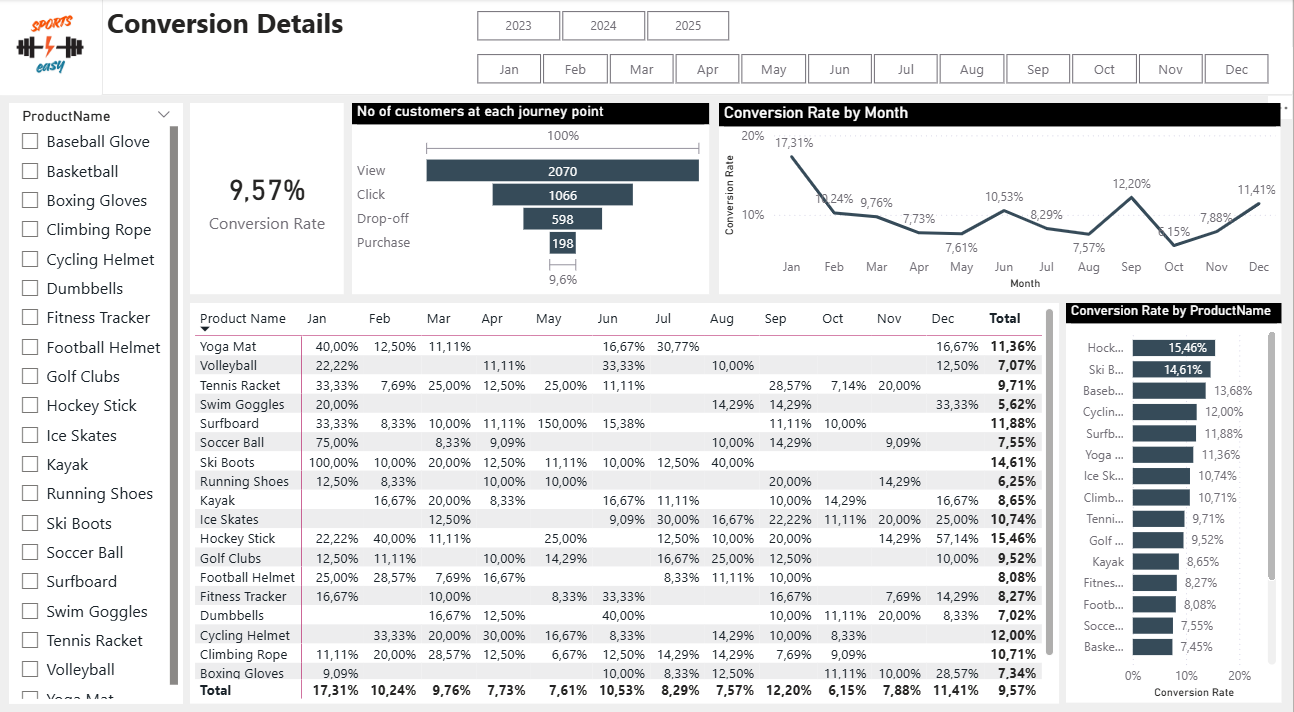

The page's visual inventory and layout, read from the dashboard file:
{"tool":"powerbi","page":{"name":"Conversion Details","canvas":[1280,720],"ordinal":1},"visuals":[{"type":"image","box":[0,0,102.8,94.9],"z":0},{"type":"textbox","box":[102.8,0,1177.2,94.9],"z":1000},{"type":"slicer","fields":{"Values":["Calendar.Year"]},"box":[447.8,4.9,299.5,42.5],"z":2000},{"type":"slicer","fields":{"Values":["Calendar.MonthNameShort"]},"box":[447.8,47.4,832.2,43.5],"z":3000},{"type":"slicer","fields":{"Values":["dim_products.ProductName"]},"box":[10.9,102.8,172,594],"z":4000},{"type":"card","fields":{"Values":["fact_customer_journey.Conversion Rate"]},"box":[189.8,102.8,152.2,188.8],"z":5000},{"type":"funnel","title":"No of customers at each journey point","fields":{"Category":["fact_customer_journey.Action"],"Y":["fact_customer_journey.NoOfCustomerJ"]},"box":[349.9,102.8,352.9,188.8],"z":6000},{"type":"lineChart","title":"Conversion Rate by Month","fields":{"Category":["Calendar.MonthNameShort"],"Y":["fact_customer_journey.Conversion Rate"]},"box":[712.6,102.8,555.5,188.8],"z":7000},{"type":"pivotTable","fields":{"Rows":["dim_products.ProductName"],"Columns":["Calendar.MonthNameShort"],"Values":["fact_customer_journey.Conversion Rate"]},"box":[189.8,300.5,858.9,396.4],"z":8000},{"type":"clusteredBarChart","fields":{"Category":["dim_products.ProductName"],"Y":["fact_customer_journey.Conversion Rate"]},"box":[1055.6,300.5,212.5,395.4],"z":9000}]}

Visuals, with their boxes in screenshot pixels (x1, y1, x2, y2), scaled from the page's 1280x720 canvas onto the 1294x712 screenshot:
image: 0,0,104,94
textbox: 104,0,1293,94
slicer - Calendar.Year: 453,5,755,47
slicer - Calendar.MonthNameShort: 453,47,1293,90
slicer - dim_products.ProductName: 11,102,185,689
card - fact_customer_journey.Conversion Rate: 192,102,346,288
"No of customers at each journey point" funnel: 354,102,710,288
"Conversion Rate by Month" lineChart: 720,102,1282,288
pivotTable - dim_products.ProductName x Calendar.MonthNameShort: 192,297,1060,689
clusteredBarChart - dim_products.ProductName x fact_customer_journey.Conversion Rate: 1067,297,1282,688
